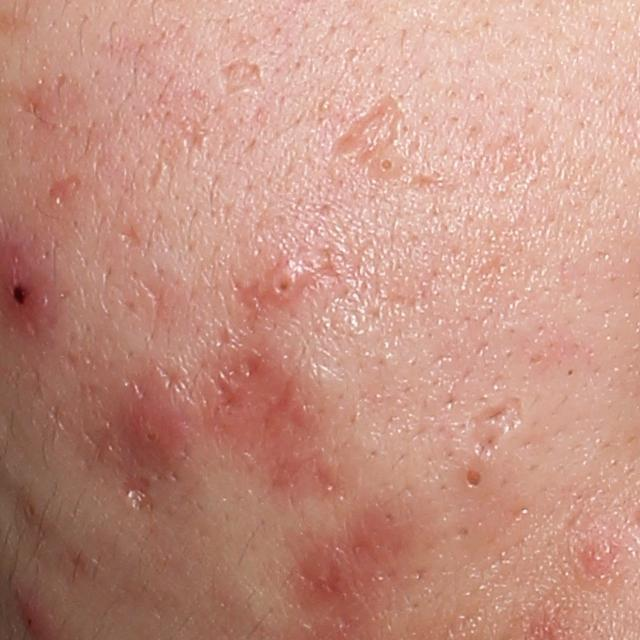atrophic_scar: (325, 92, 406, 165), (465, 394, 527, 463), (201, 357, 251, 421), (212, 56, 267, 100), (45, 171, 86, 209), (119, 223, 144, 252)
comedo: (458, 465, 489, 497), (372, 148, 404, 175)
papule: (117, 399, 194, 474), (262, 264, 303, 306), (580, 540, 619, 569)
